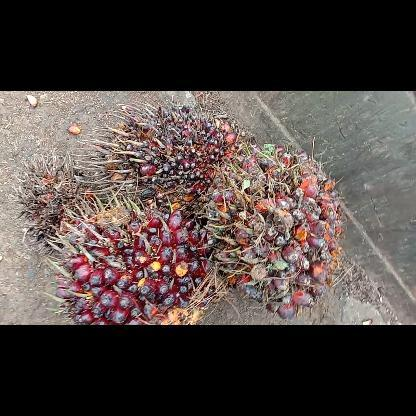TBS abnormal: (71, 98, 253, 214), (13, 150, 98, 254)
TBS masak: (202, 140, 346, 322), (44, 190, 238, 324)
